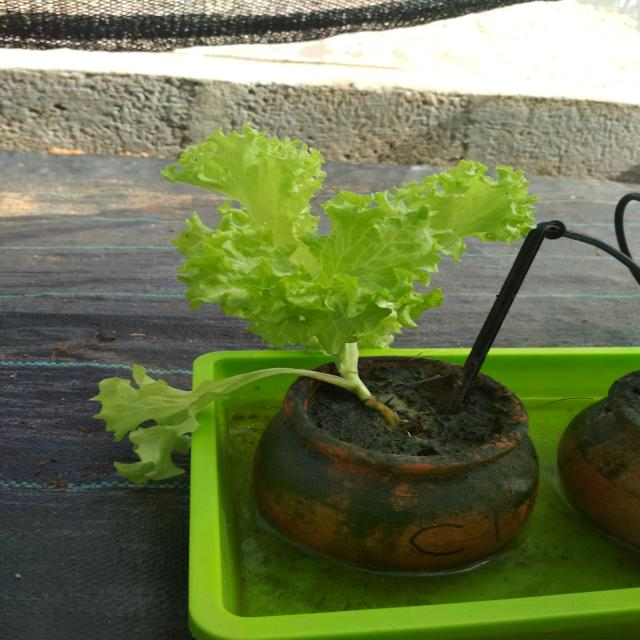Lettuce-Not-Ready-to-Harvest: (92, 136, 534, 478)
